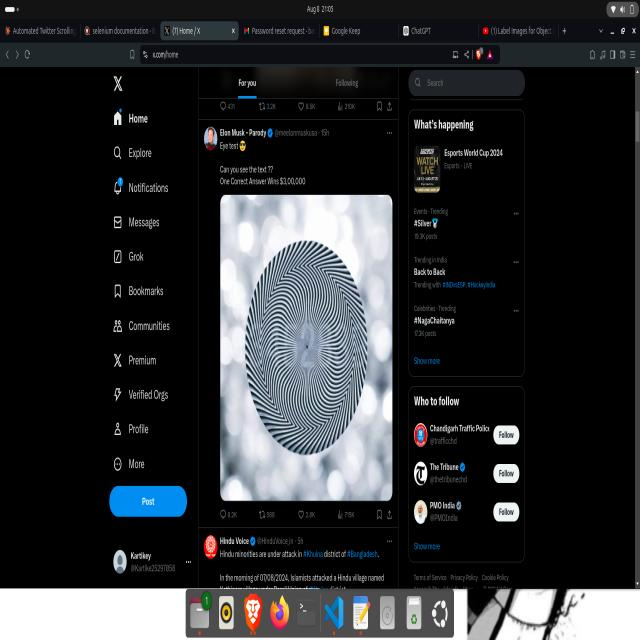Tweet-Comment_Box-: (195, 119, 401, 534)
